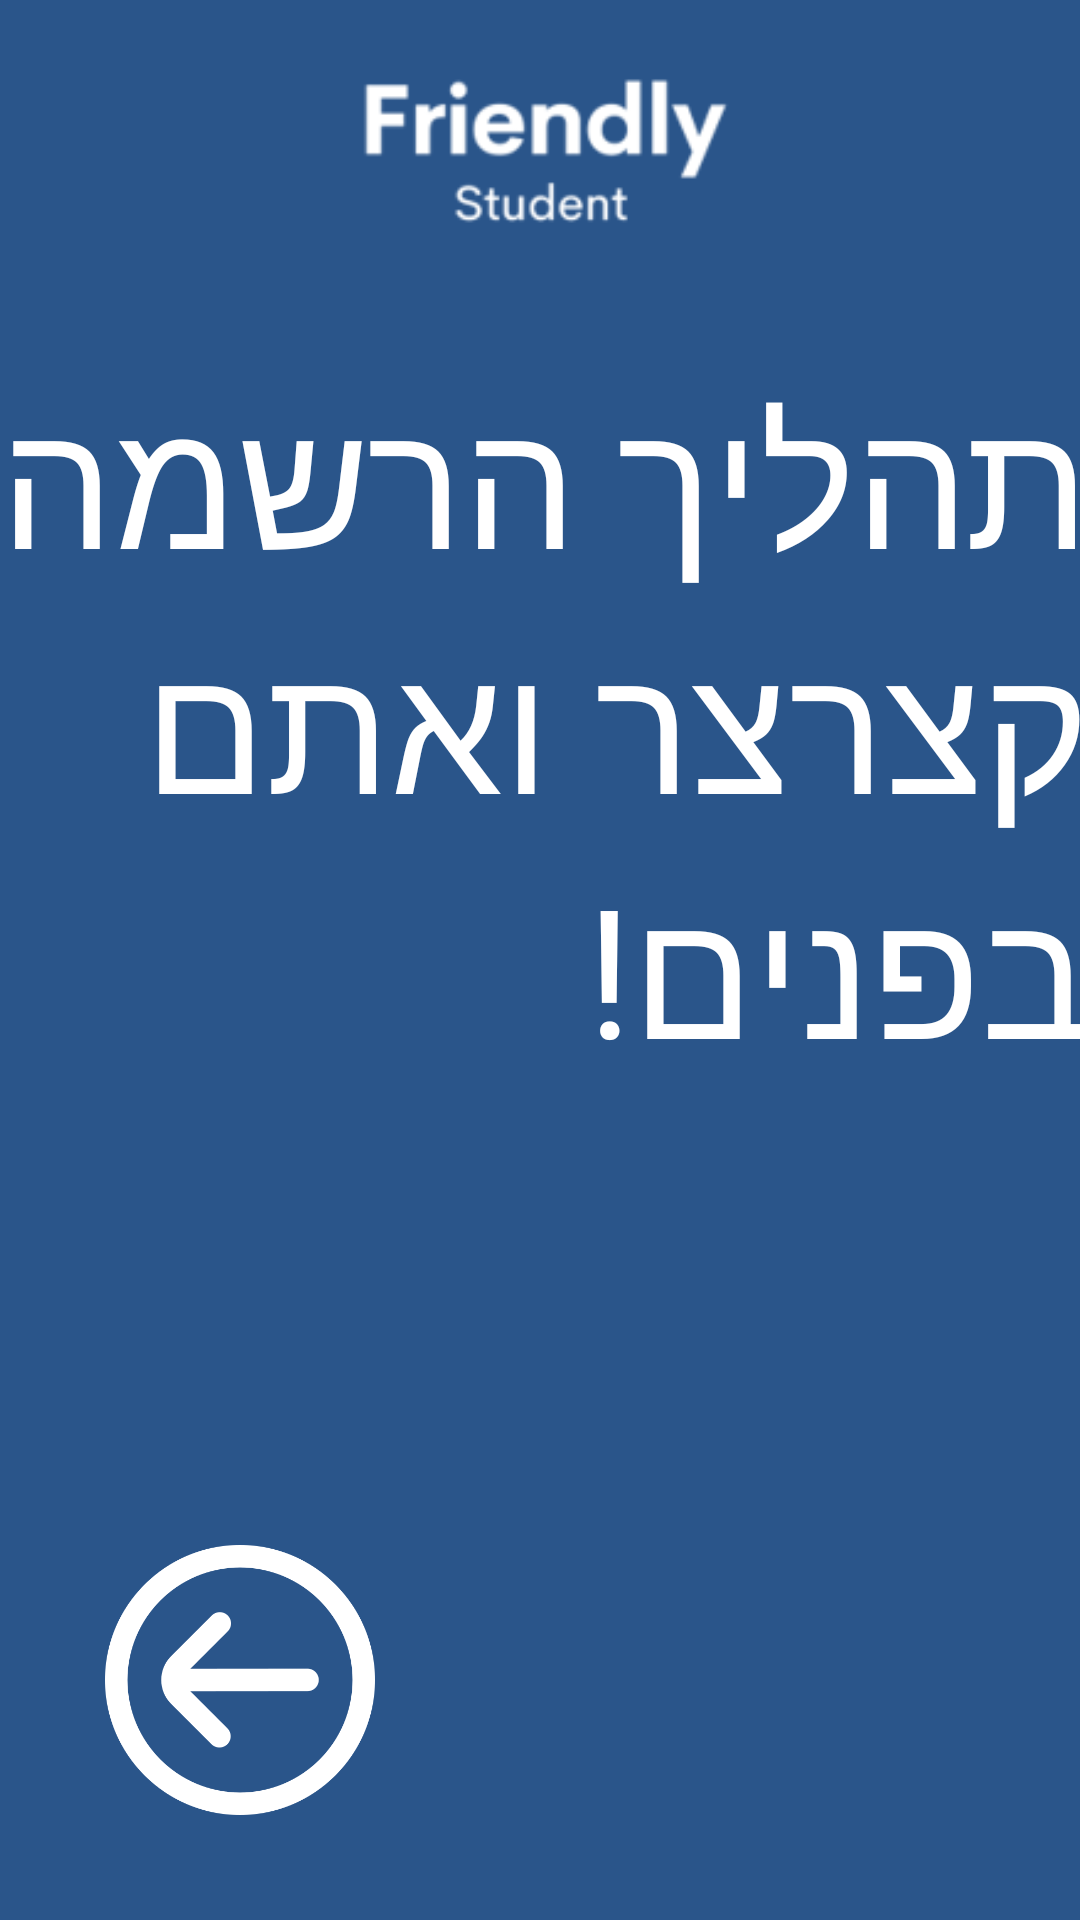

Named icons in this screenshot (1080*1920) and their centers, (x=x, y=y):
circulararrow: (x=240, y=1680)
